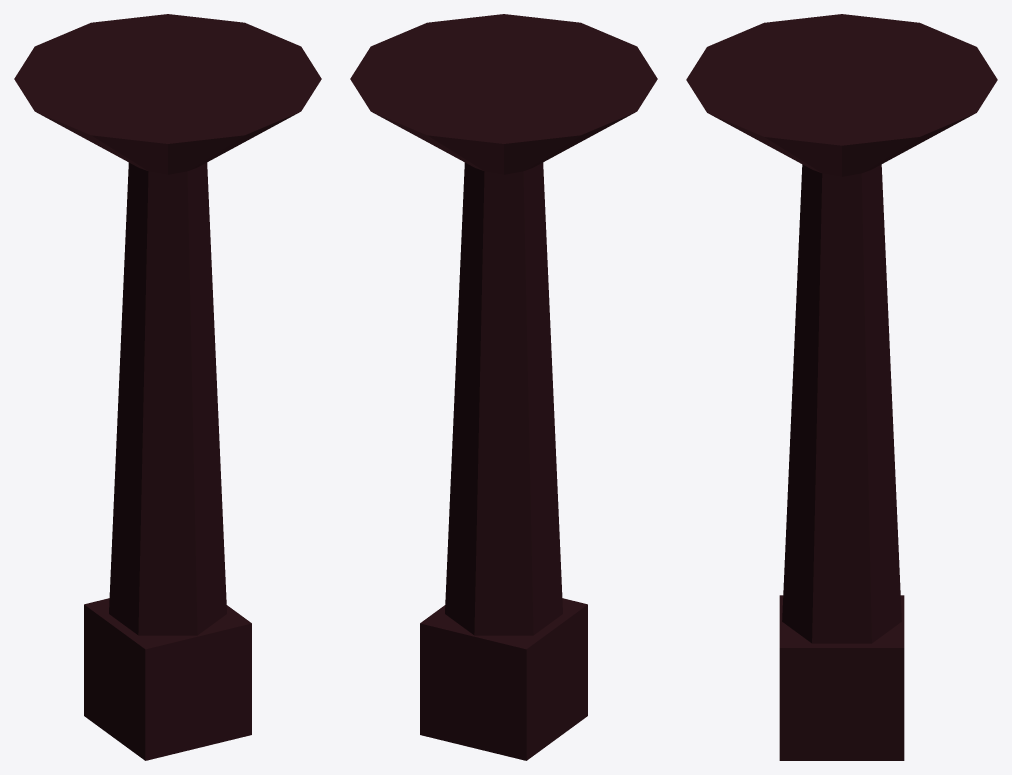
The model's file is Tower.glb.
3 views of the same model, side by side, from view 1: azimuth 30°, elevation 25°; view 2: azimuth 150°, elevation 25°; view 3: azimuth 270°, elevation 25° (orthographic).
Visible parts, largest first — view 1: Cone; view 2: Cone; view 3: Cone.
Part boxes in pixels (left/top/right/bottom): Cone: left=14, top=14, right=321, bottom=760; Cone: left=350, top=14, right=657, bottom=760; Cone: left=686, top=14, right=997, bottom=760.
Size of the model in its own units: 10 by 23.18 by 10.
